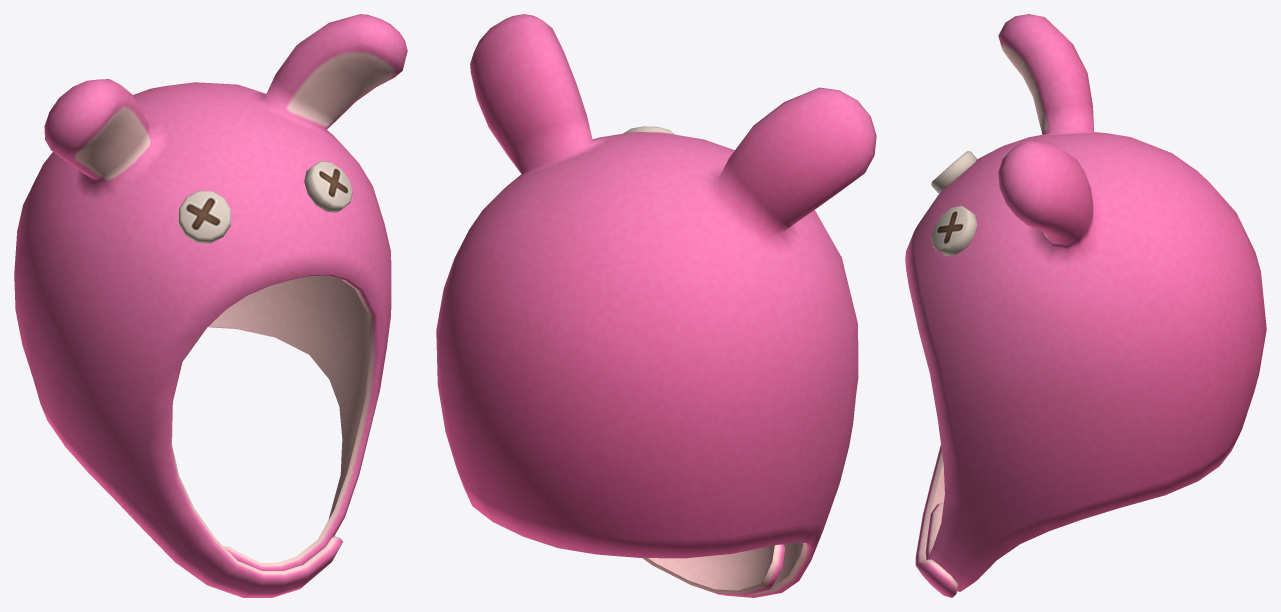
The picture shows the model from 3 angles, left to right: view 1: azimuth 30°, elevation 25°; view 2: azimuth 150°, elevation 25°; view 3: azimuth 270°, elevation 25°; orthographic projection. The views are drawn at different scales.
Parts seen in each view (by area): view 1: model_27; view 2: model_27; view 3: model_27.
Boxes of the visible parts, left/top/right/bottom form: model_27: left=14, top=14, right=407, bottom=597; model_27: left=436, top=14, right=876, bottom=597; model_27: left=905, top=14, right=1266, bottom=597.
Bounding box in the file's own units: 0.9966 × 1.39 × 0.903.
1 material, 1 textured.
